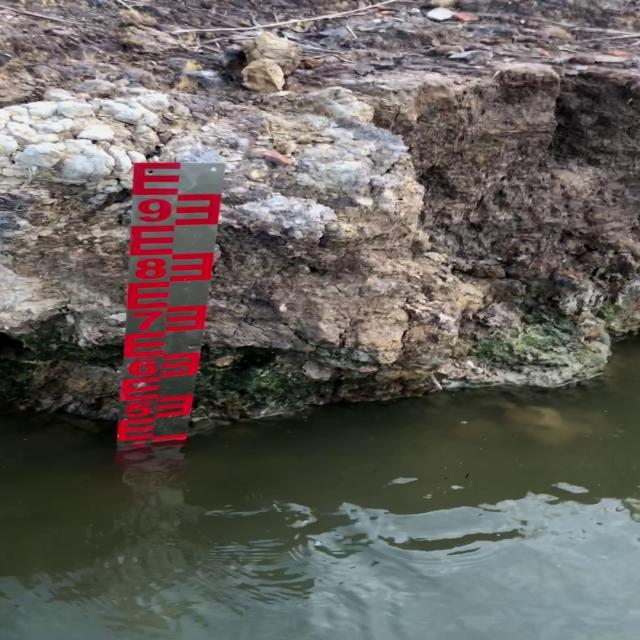ruler: (94, 146, 245, 458)
value: (131, 193, 177, 228), (130, 253, 172, 286), (126, 306, 168, 336), (124, 353, 162, 378), (121, 398, 156, 423)
